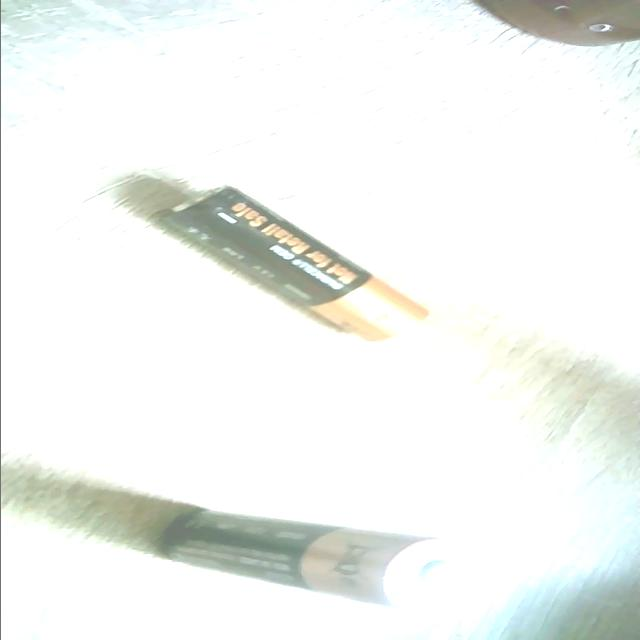AA: (150, 184, 432, 342), (160, 507, 486, 615)
